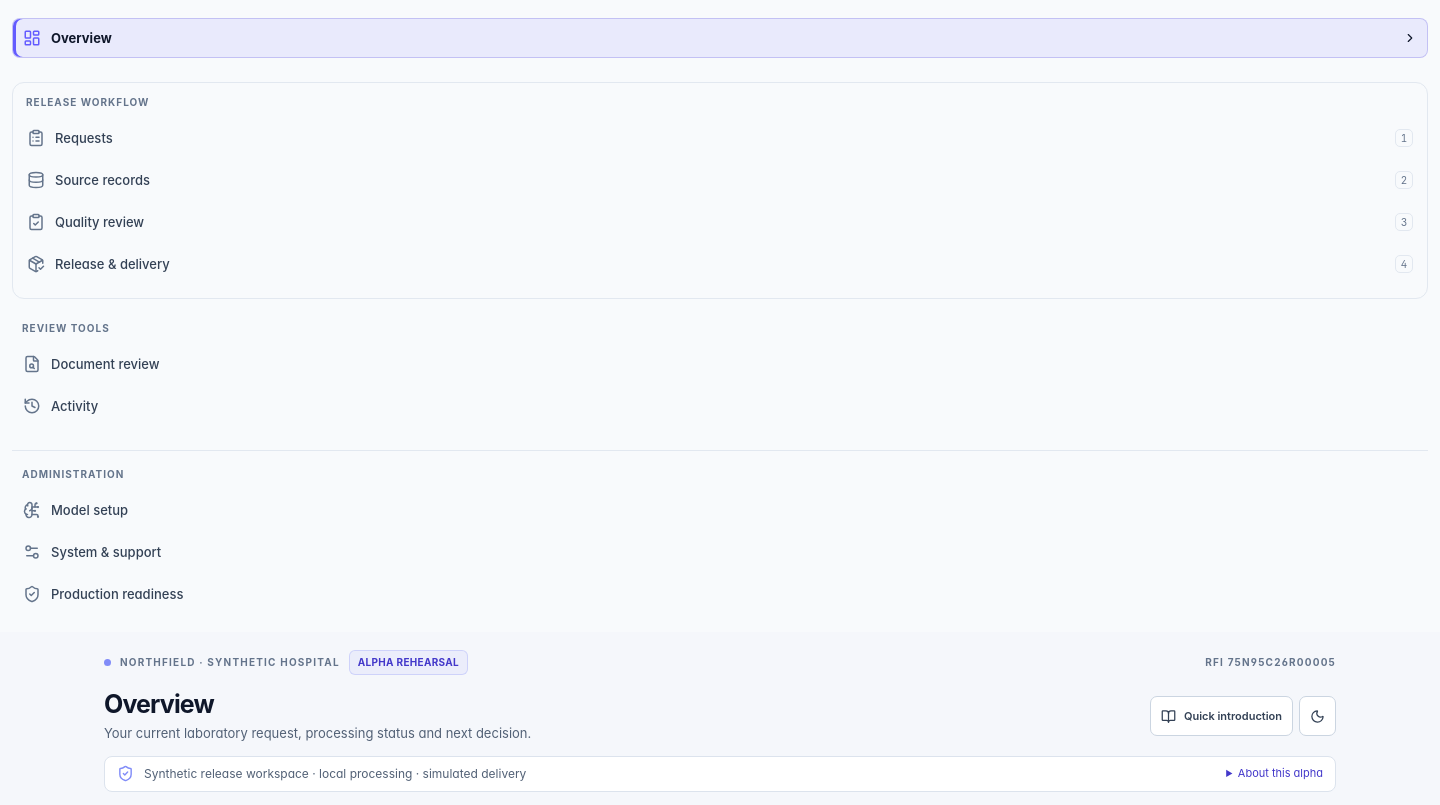
preserves unreadable saved evidence until an explicit synthetic reset
Click the button "System & support" at [106, 552], box [12, 532, 1428, 572]
(page scrolled)
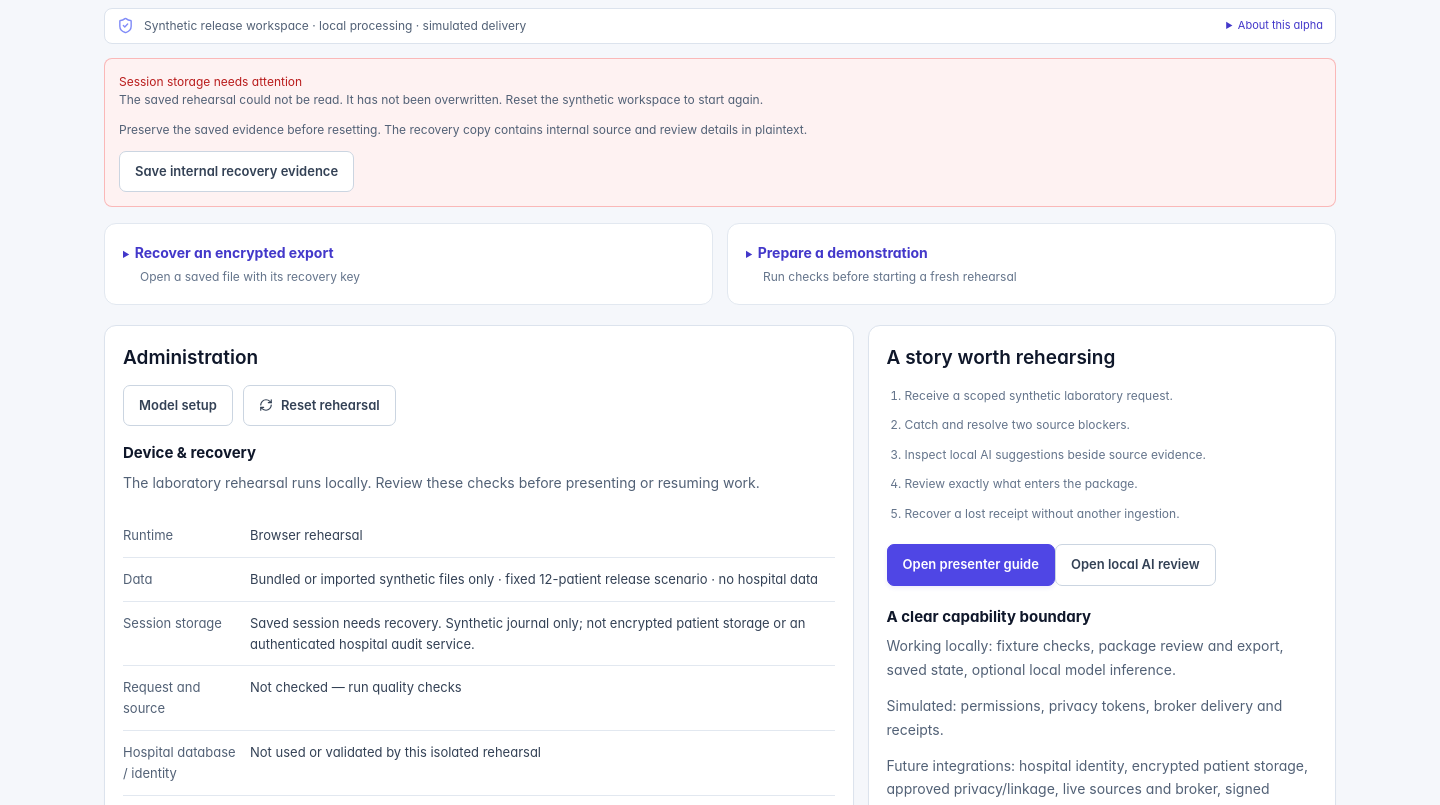
Click the button "Reset rehearsal" at [319, 405], box [243, 384, 396, 426]
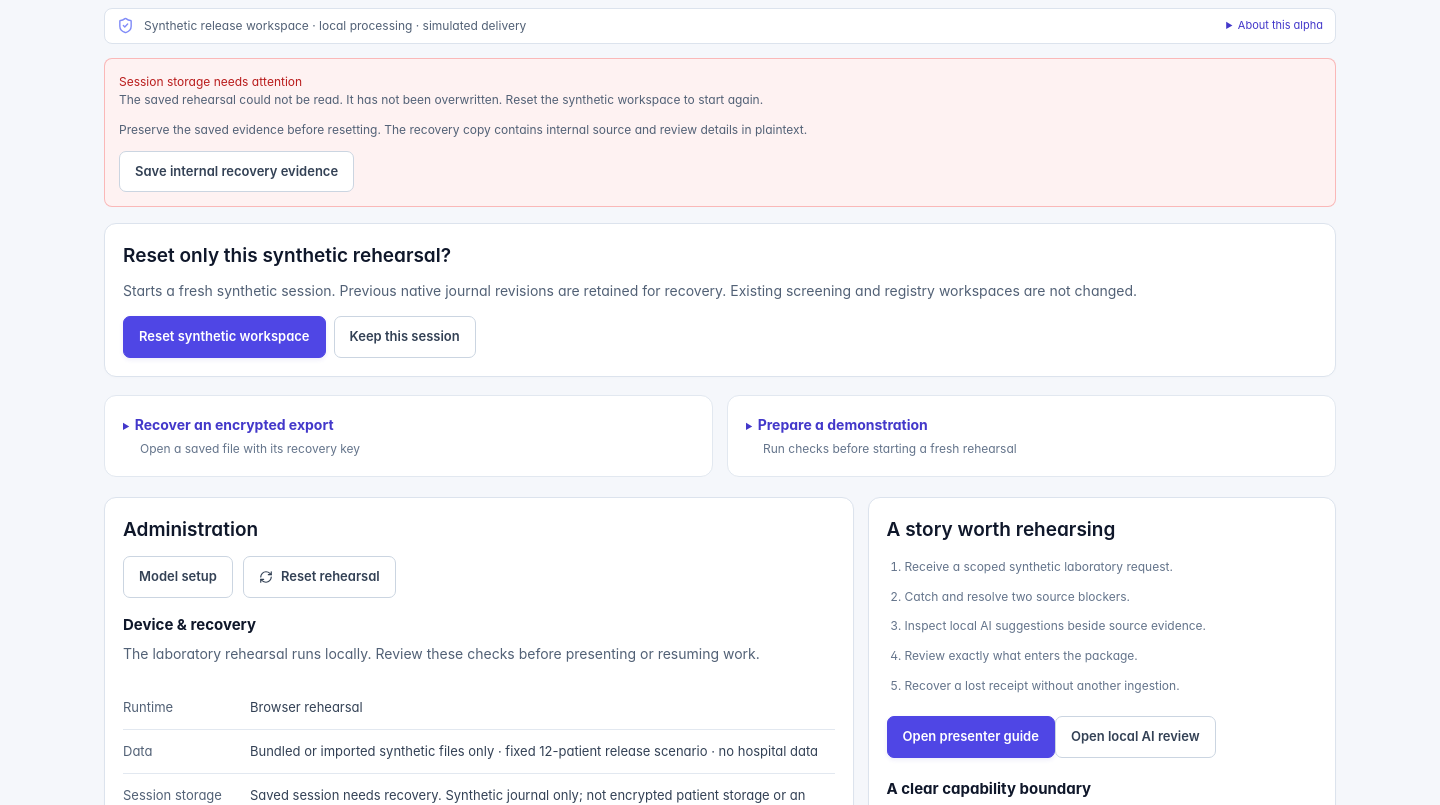
Click the button "Reset synthetic workspace" at [224, 337], box [123, 316, 326, 358]
(page scrolled)
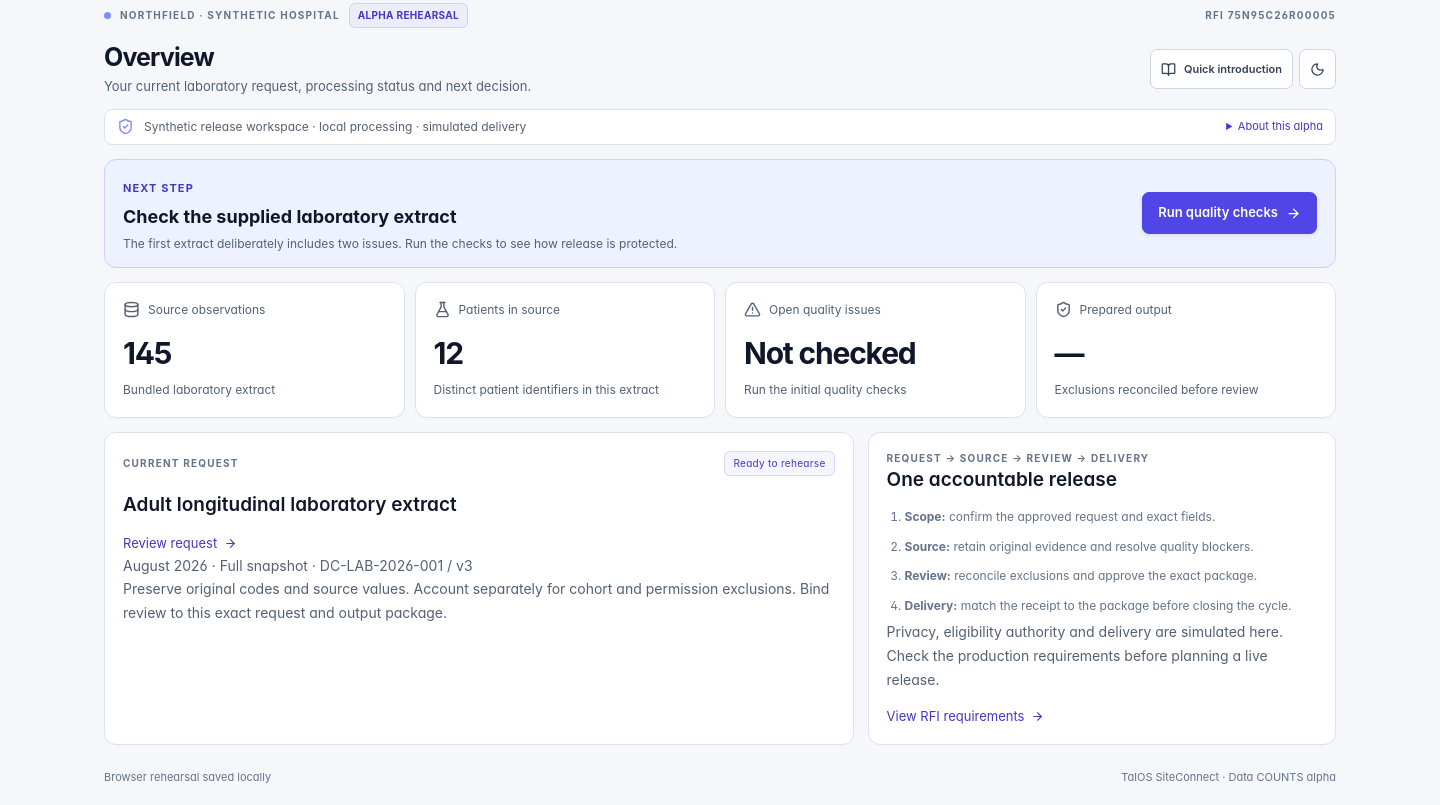
expect the heading "Session storage needs attention" is gone: met
